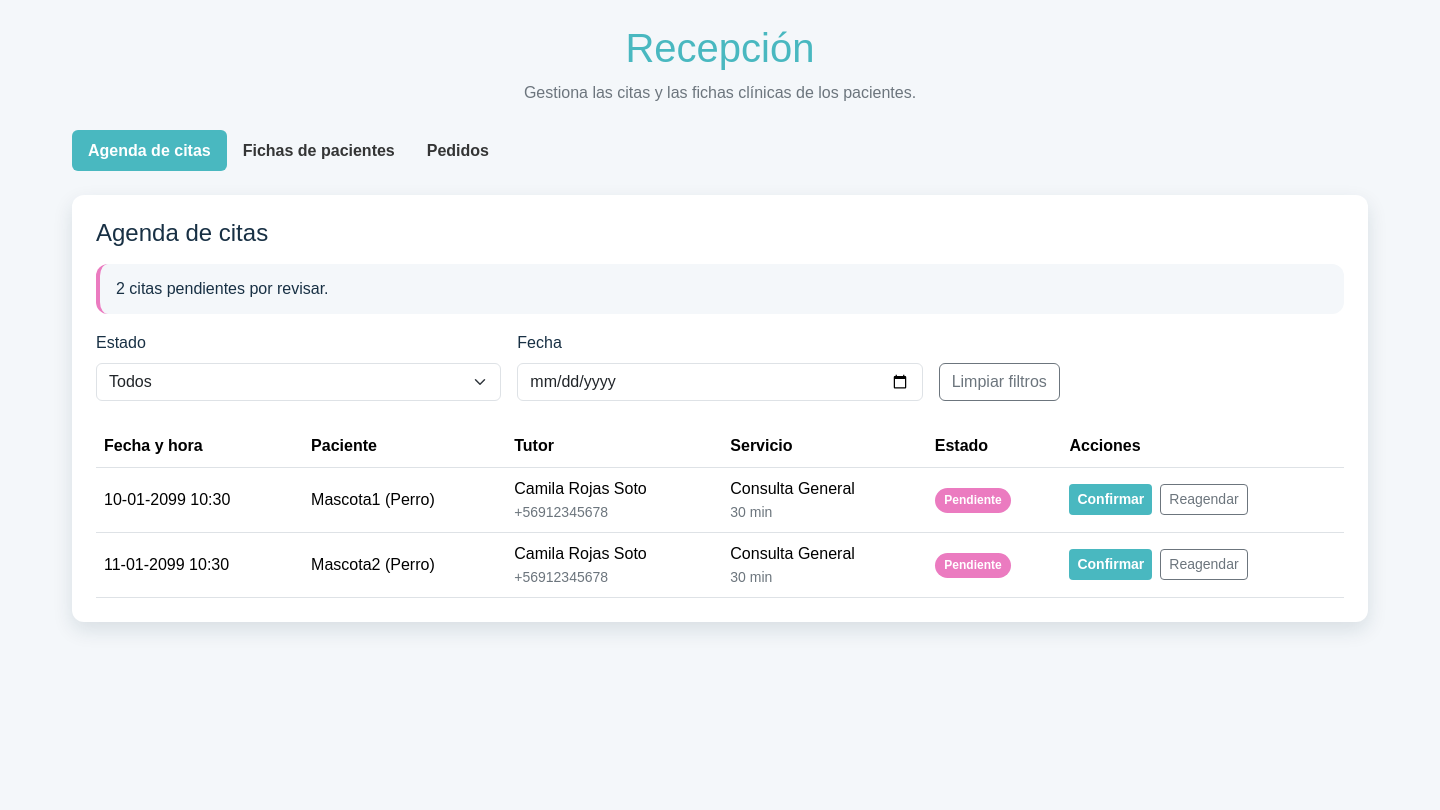
Test: AgendaCitas › filtra las citas por fecha y permite limpiar los filtros
Type "2099-01-11" into the date field labelled "Fecha". click: (720, 382)
box: [517, 363, 923, 401]
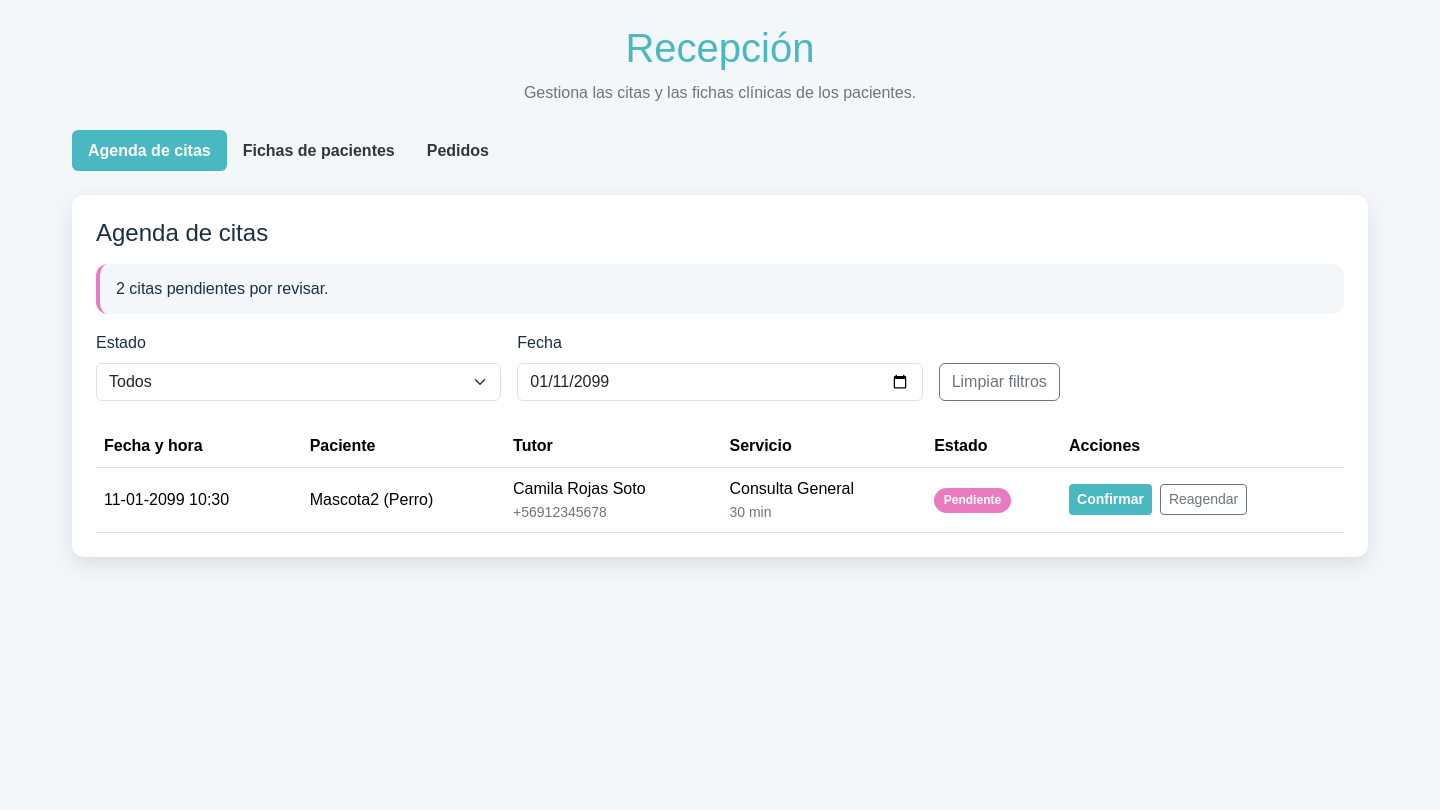
Now the text "Mascota1" is gone
Click the button "Limpiar filtros". click: (999, 382)
box: [939, 363, 1060, 401]
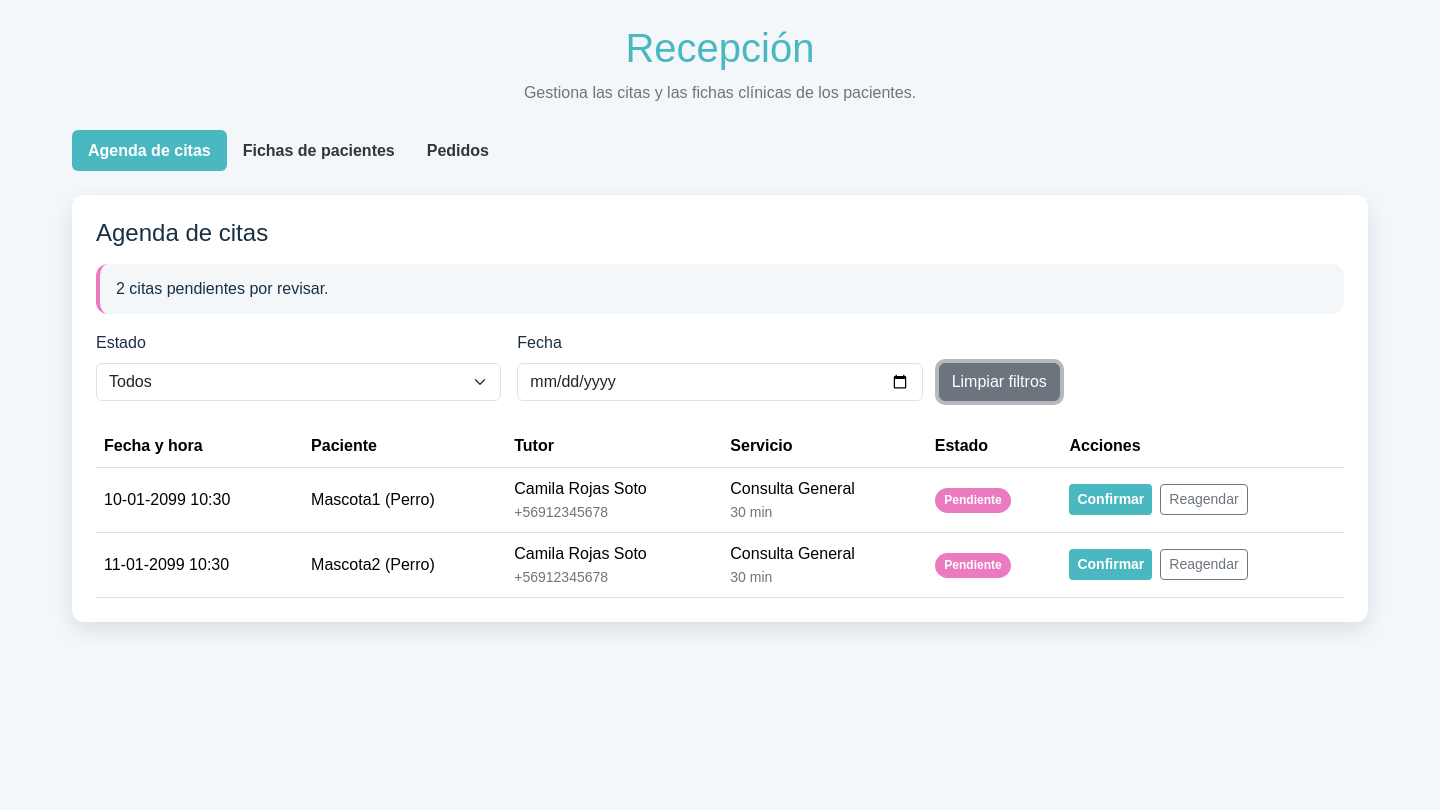
Now the text "Mascota1 (Perro)" is shown, box [303, 467, 506, 532]
